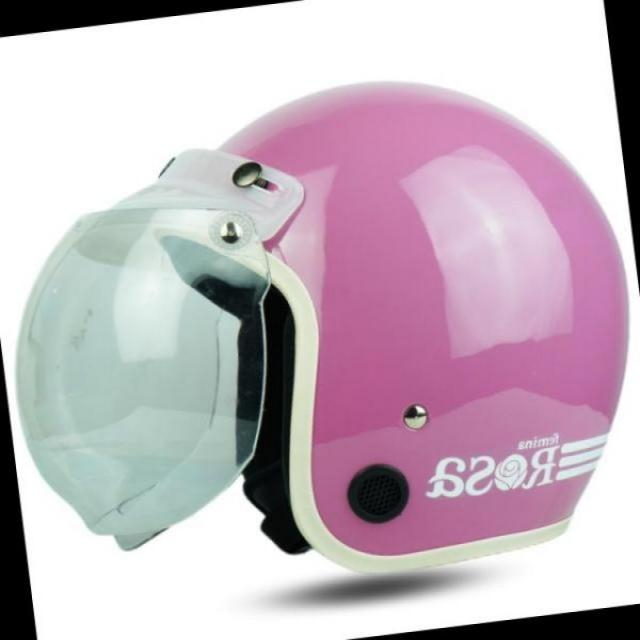Helmet: (29, 82, 611, 582)
